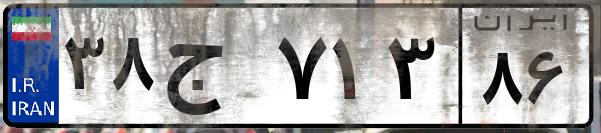1: (330, 28, 385, 110)
3: (385, 28, 445, 110), (57, 26, 110, 100)
6: (525, 38, 570, 115)
7: (270, 28, 330, 110)
8: (475, 38, 525, 113), (110, 28, 158, 98)
ج: (158, 20, 270, 120)
